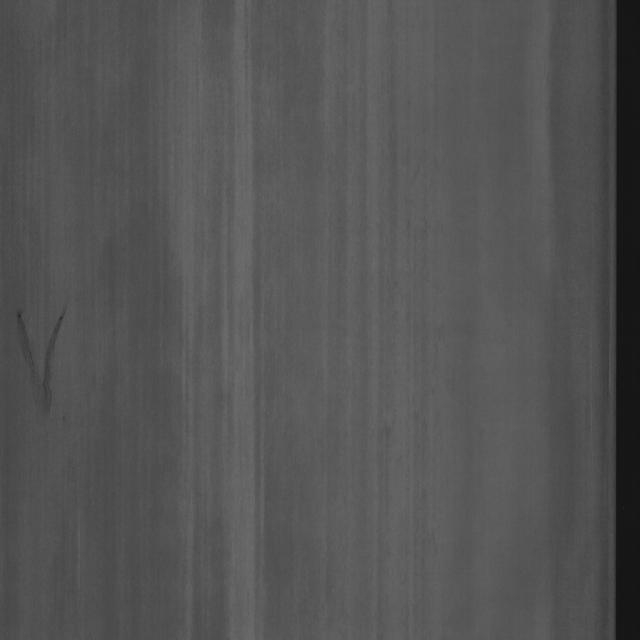water_spot: (15, 286, 72, 432)
